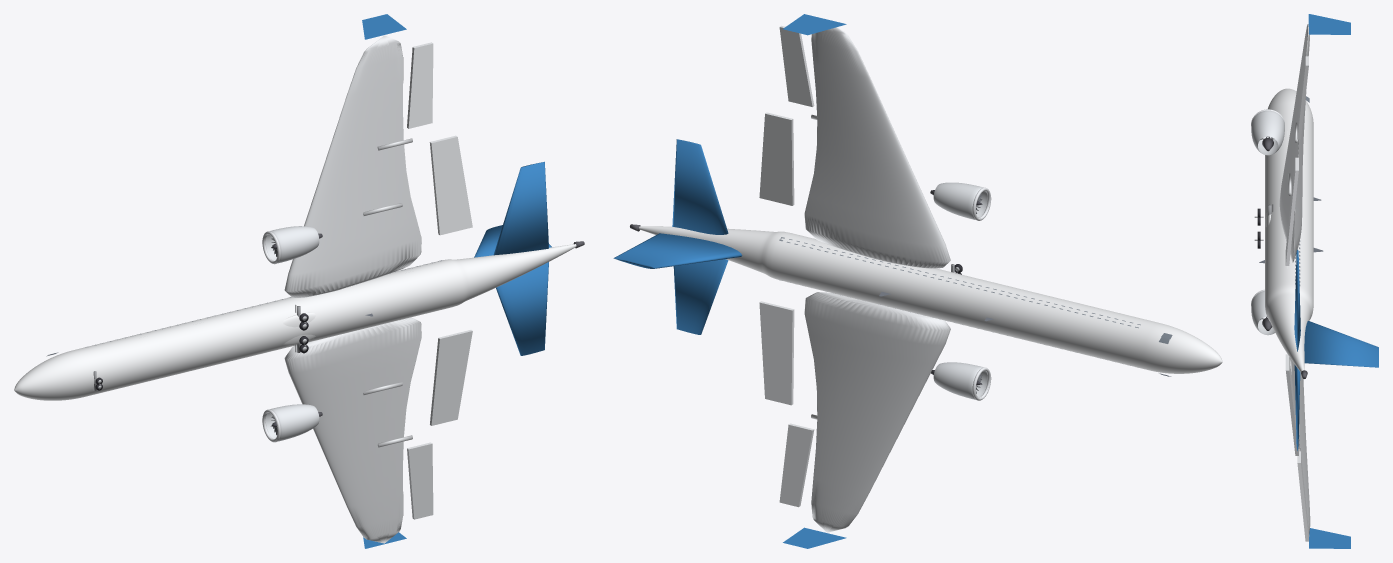
The picture shows the model from 3 angles, left to right: view 1: azimuth 30°, elevation 25°; view 2: azimuth 150°, elevation 25°; view 3: azimuth 270°, elevation 25°; orthographic projection.
Parts seen in each view (by area): view 1: Fuselage, Wing_R, Wing_L, HStab_R, HStab_L, Flap_R, Flap_L, Aileron_R, Aileron_L, Nacelle_-1_0, Nacelle_1_0, Sharklet_R; view 2: Fuselage, Wing_L, Wing_R, HStab_R, Flap_L, HStab_L, Flap_R, Fin, Aileron_L, Aileron_R, Nacelle_1_0, Nacelle_-1_0 (+2 smaller); view 3: Fuselage, Wing_R, Fin, Nacelle_1_0, Wing_L, Sharklet_R, Sharklet_L, Flap_R, Nacelle_-1_0, Flap_L, HStab_R, Aileron_L (+2 smaller).
Part boxes in pixels (x1,y1,x2,y2): Fuselage: (14,244,576,400); Wing_R: (284,35,421,297); Wing_L: (284,317,421,543); HStab_R: (493,161,548,255); HStab_L: (496,262,548,355); Flap_R: (429,135,472,235); Flap_L: (430,330,472,425); Aileron_R: (407,42,433,128); Aileron_L: (407,442,433,519); Nacelle_-1_0: (265,404,319,441); Nacelle_1_0: (265,226,319,263); Sharklet_R: (362,14,406,39); Fuselage: (639,226,1222,373); Wing_L: (804,292,950,532); Wing_R: (804,27,950,268); HStab_R: (672,139,728,234); Flap_L: (759,301,794,405); HStab_L: (673,259,728,334); Flap_R: (759,112,794,205); Fin: (613,233,742,268); Aileron_L: (779,423,814,507); Aileron_R: (779,25,814,106); Nacelle_1_0: (933,182,987,219); Nacelle_-1_0: (933,362,987,399); Fuselage: (1265,88,1313,372); Wing_R: (1279,24,1309,262); Fin: (1304,321,1378,367); Nacelle_1_0: (1251,110,1284,155); Wing_L: (1291,359,1310,536); Sharklet_R: (1308,14,1350,34); Sharklet_L: (1309,528,1350,548); Flap_R: (1285,157,1298,265); Nacelle_-1_0: (1251,291,1275,335); Flap_L: (1285,354,1298,455); HStab_R: (1294,249,1300,351); Aileron_L: (1297,451,1308,541).
Size of the model in its own units: 41.72 by 35.12 by 7.92.
